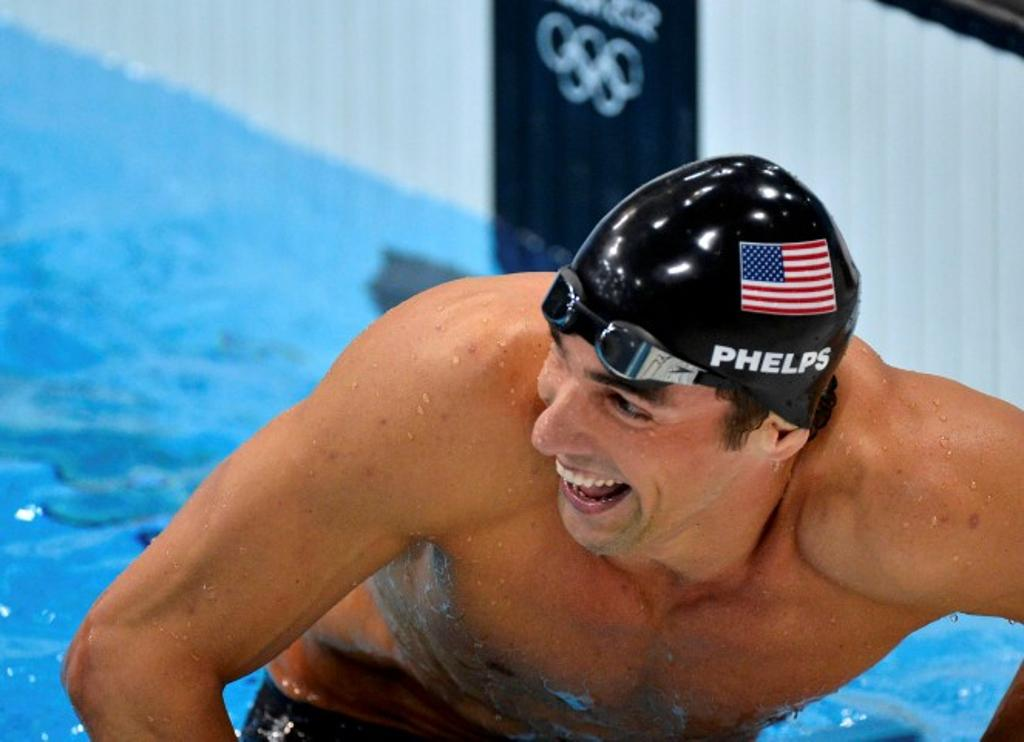face: (532, 290, 704, 556)
